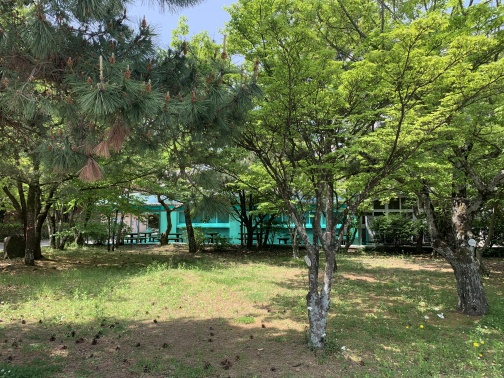Ara Hall: (98, 169, 485, 259)
